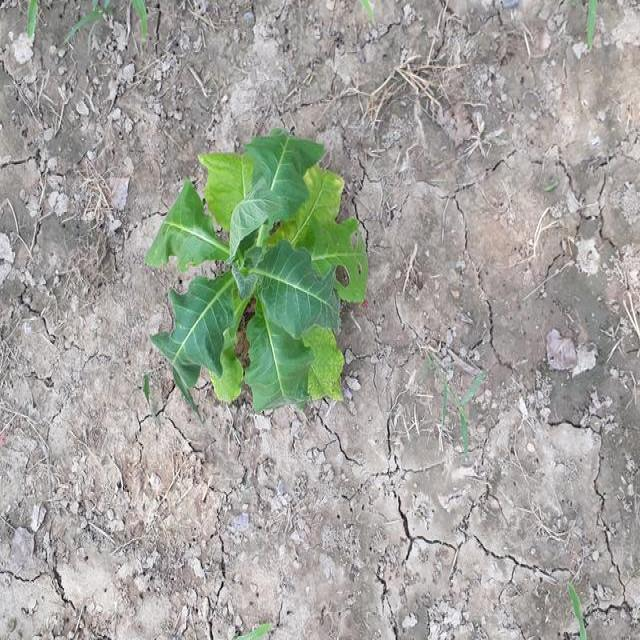crop: (157, 125, 370, 404)
